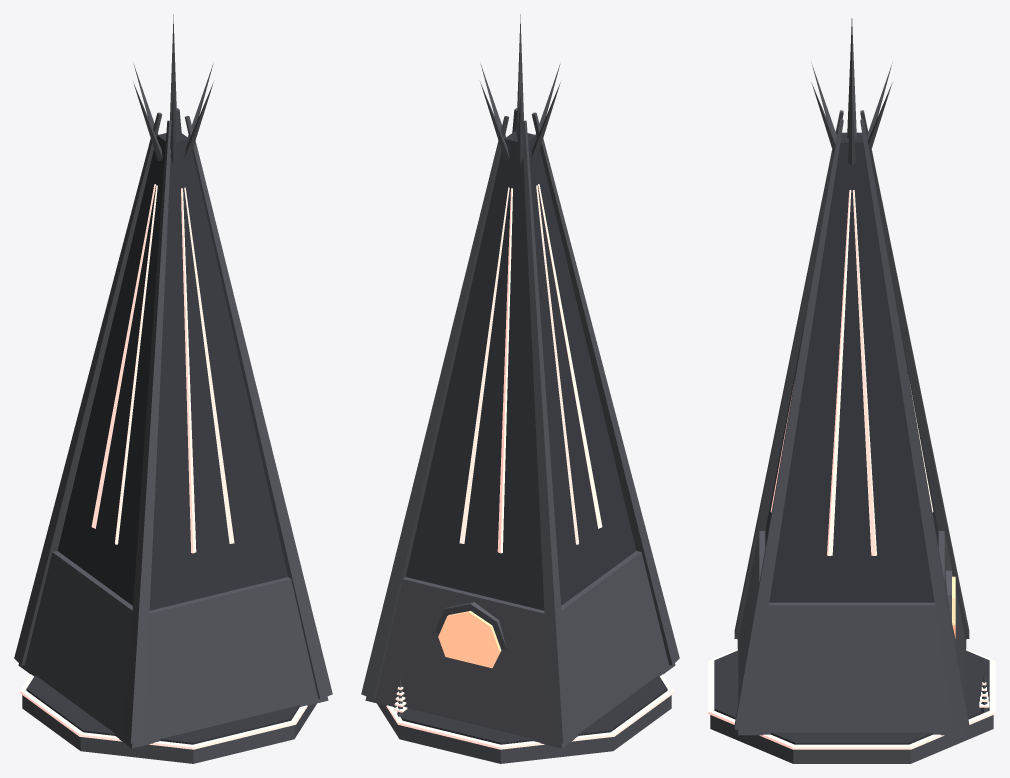
File: zone_high_6_t5.glb
The picture shows the model from 3 angles, left to right: view 1: azimuth 30°, elevation 25°; view 2: azimuth 150°, elevation 25°; view 3: azimuth 270°, elevation 25°; orthographic projection.
Parts seen in each view (by area): view 1: zone_high_6_t5; view 2: zone_high_6_t5; view 3: zone_high_6_t5.
Boxes of the visible parts, <box> form: zone_high_6_t5: <box>14,14,332,763</box>; zone_high_6_t5: <box>361,14,679,763</box>; zone_high_6_t5: <box>708,18,995,763</box>.
Size of the model in its own units: 27.35 by 72.48 by 27.35.
